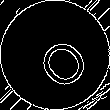O_NW: (22, 22, 88, 88)
